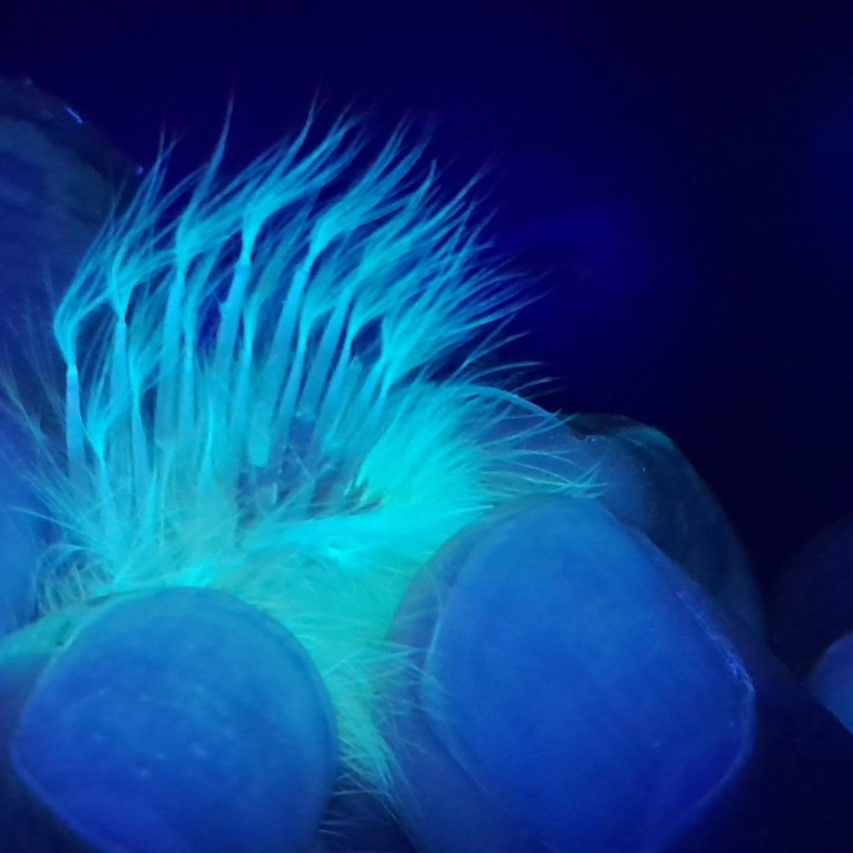female: (44, 218, 429, 578)
